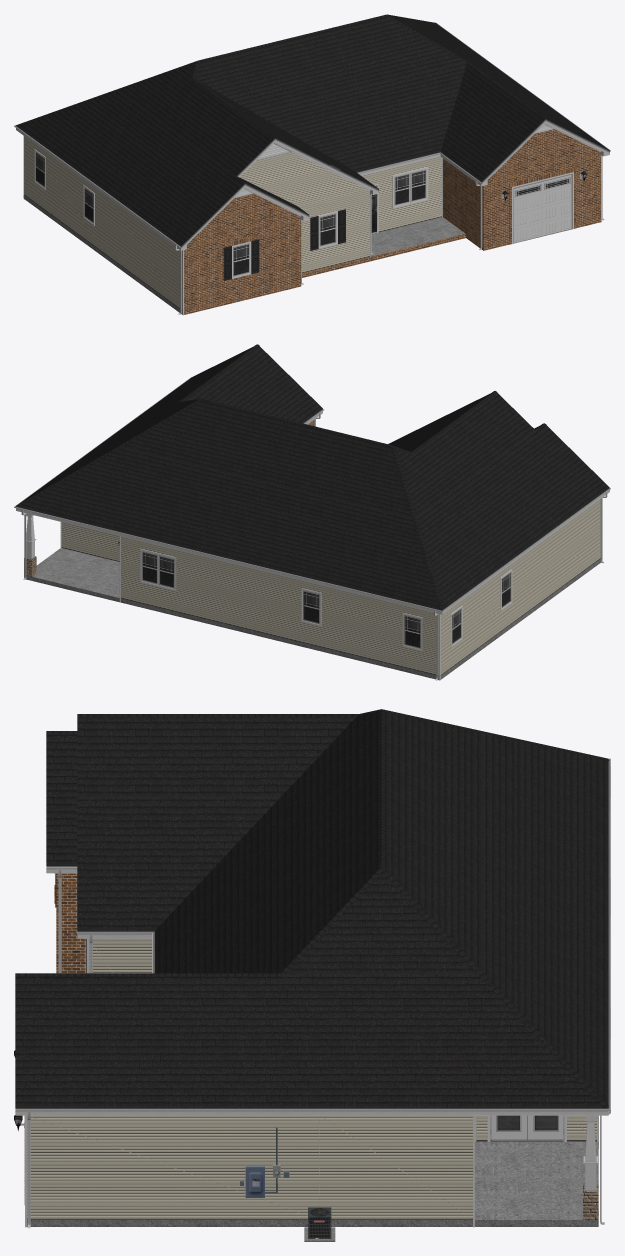
Rendered from house5_mirror1.fbx.
The picture shows the model from 3 angles, top to bottom: view 1: azimuth 30°, elevation 25°; view 2: azimuth 150°, elevation 25°; view 3: azimuth 270°, elevation 25°; orthographic projection. The views are drawn at different scales.
Visible parts, largest first — view 1: house5_mirror1_LOD0; view 2: house5_mirror1_LOD0; view 3: house5_mirror1_LOD0.
Boxes of the visible parts, x1=… form: house5_mirror1_LOD0: x1=14, y1=14, x2=610, y2=315; house5_mirror1_LOD0: x1=14, y1=344, x2=610, y2=680; house5_mirror1_LOD0: x1=14, y1=709, x2=610, y2=1241.
Size of what is drawn, in the model's own units: 5.51 by 1.92 by 3.85.
